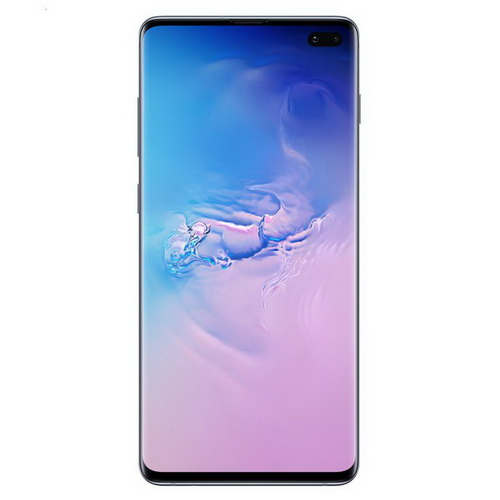Handphone: (133, 14, 363, 494)
